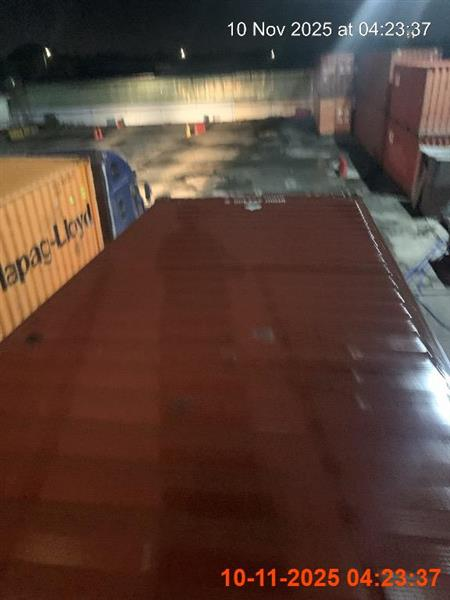hole: (309, 0, 449, 248)
